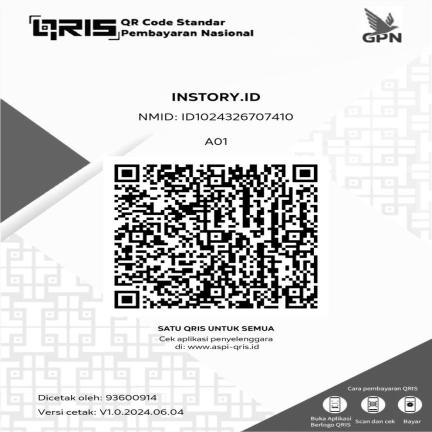Cara Pakai QRIS: (297, 384, 428, 428)
Cek Aplikasi Penyelenggara: (152, 336, 278, 352)
Dicetak Oleh: (36, 392, 162, 402)
Logo GPN: (348, 5, 413, 46)
Logo dan deskripsi QRIS: (16, 10, 263, 44)
Nama Merchant: (162, 88, 265, 105)
National Merchant ID: (131, 109, 299, 124)
QR Code: (102, 157, 331, 314)
Slogan: (152, 324, 278, 333)
Terminal ID: (196, 134, 234, 147)
Versi Cetak: (35, 405, 193, 418)
